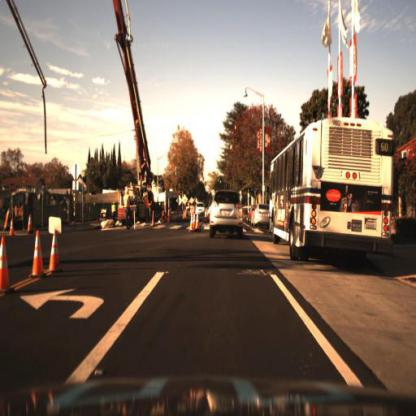car: (204, 185, 247, 240), (253, 201, 274, 229), (255, 201, 270, 229), (192, 200, 208, 220)
pedestrian: (121, 187, 135, 229), (122, 183, 131, 233), (141, 192, 153, 227), (140, 189, 150, 226), (113, 196, 121, 226), (108, 201, 117, 222)
trafficLight: (218, 173, 226, 192)
truck: (5, 1, 162, 224), (268, 104, 399, 282), (106, 177, 162, 234)
